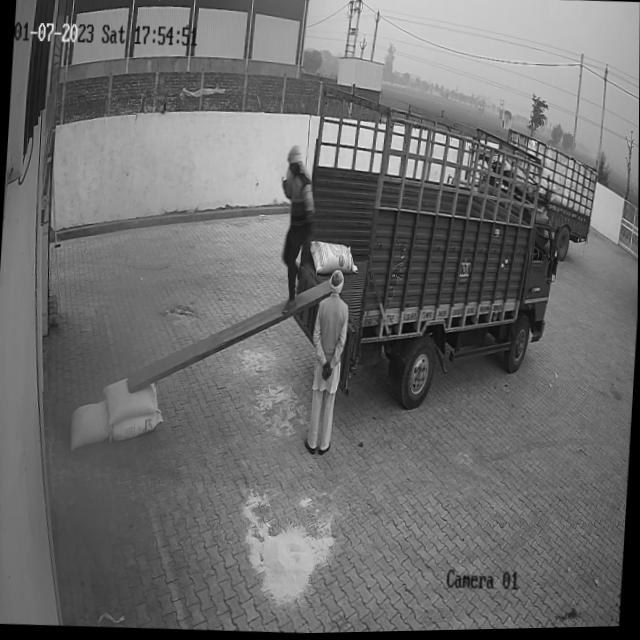sack: (103, 377, 159, 425), (69, 401, 111, 452), (110, 407, 164, 442), (309, 239, 359, 276)
